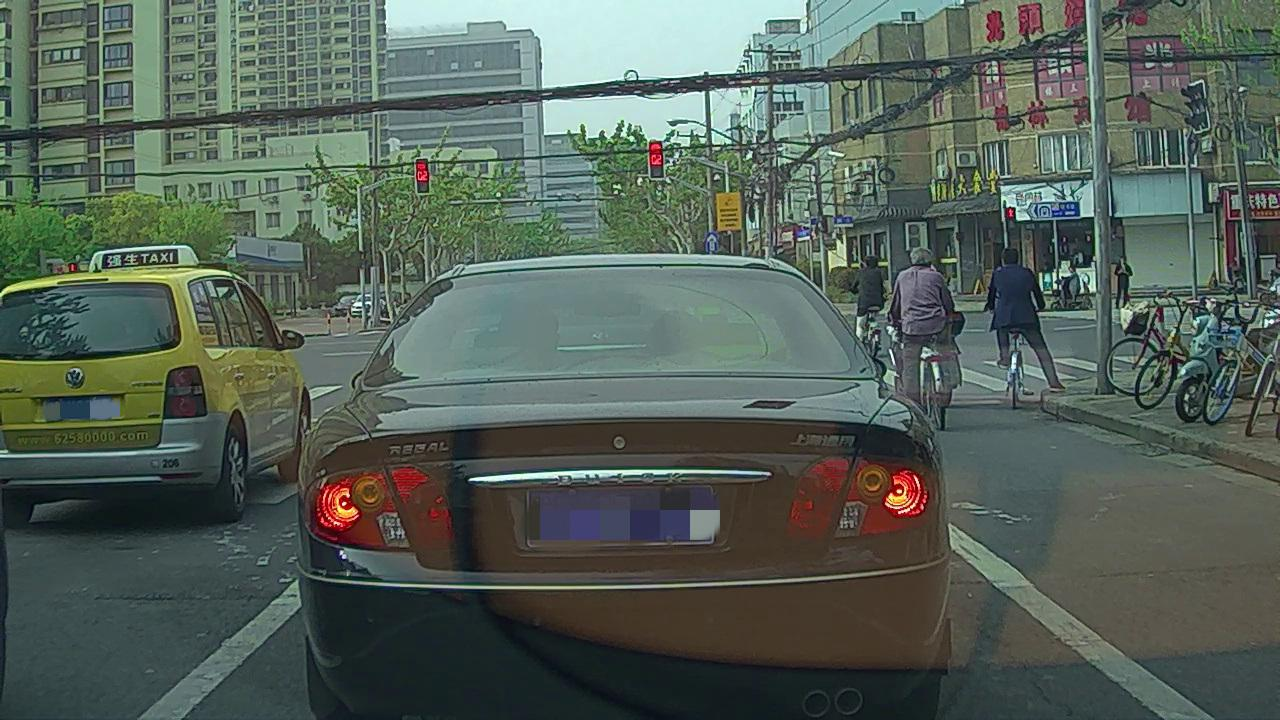traffic_light: (649, 143, 664, 177), (417, 160, 428, 194)
